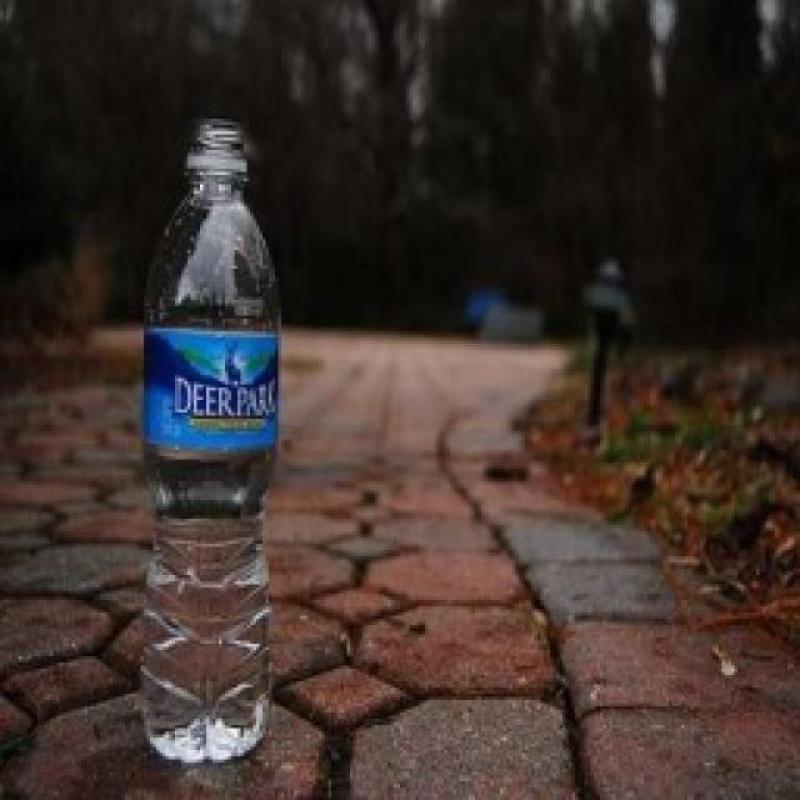botella: (136, 120, 280, 764)
